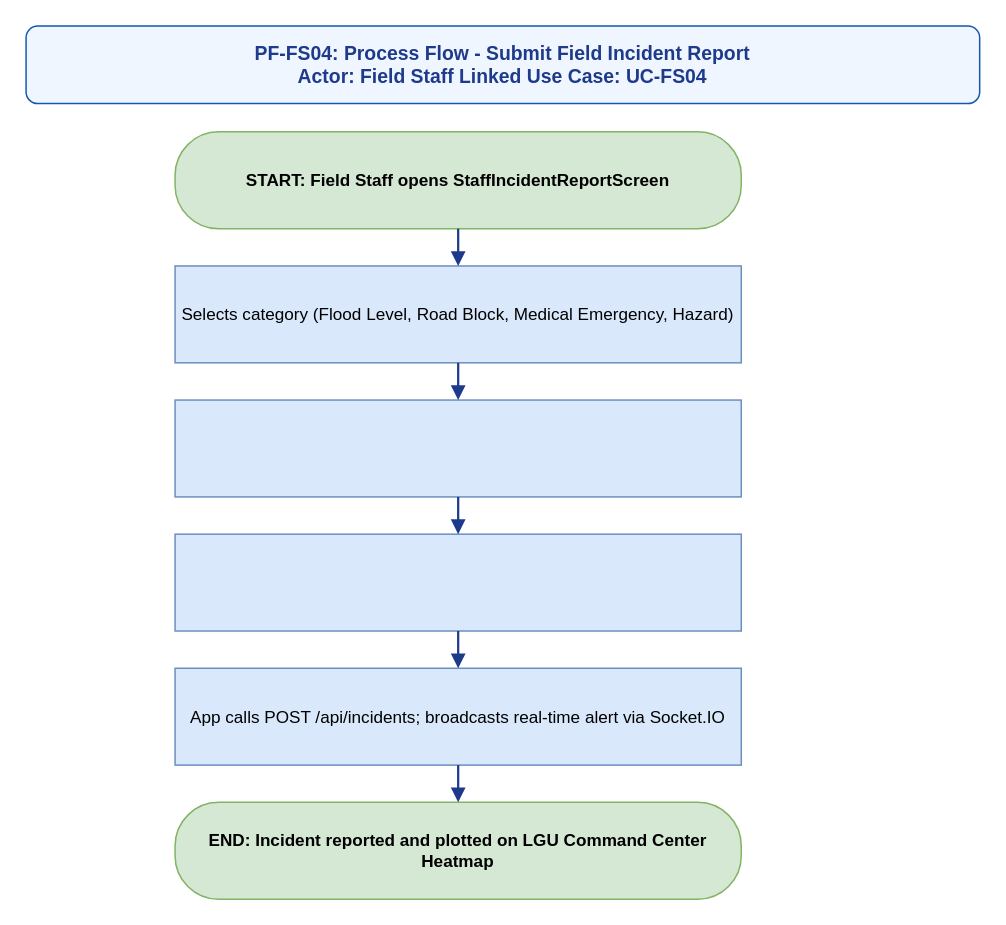
Some shapes in this 1006 by 925 pixel diagram are drawn without their labels. Here are the shapes that lost their labels. From the top down, the centre of each, then its label:
the point at 457,448: App captures precise field GPS coordinates and attaches on-site photo
the point at 457,582: Enters operational description and taps "Submit Incident"
